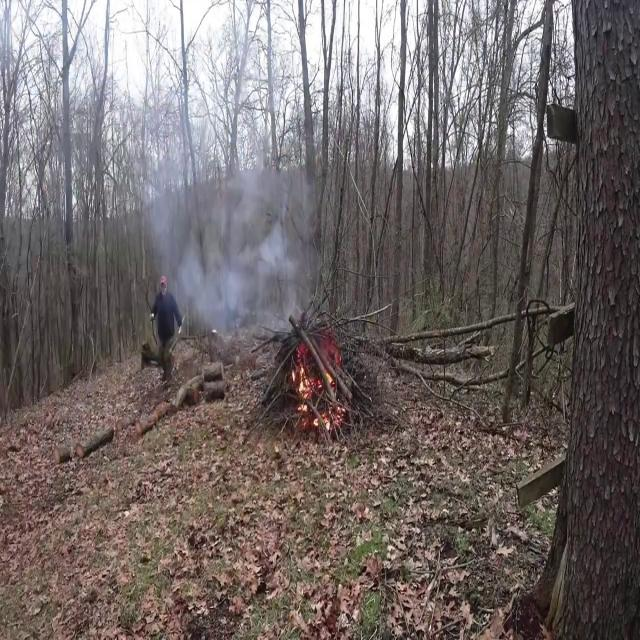Fire: (286, 351, 316, 418)
Smoke: (143, 94, 319, 350)
